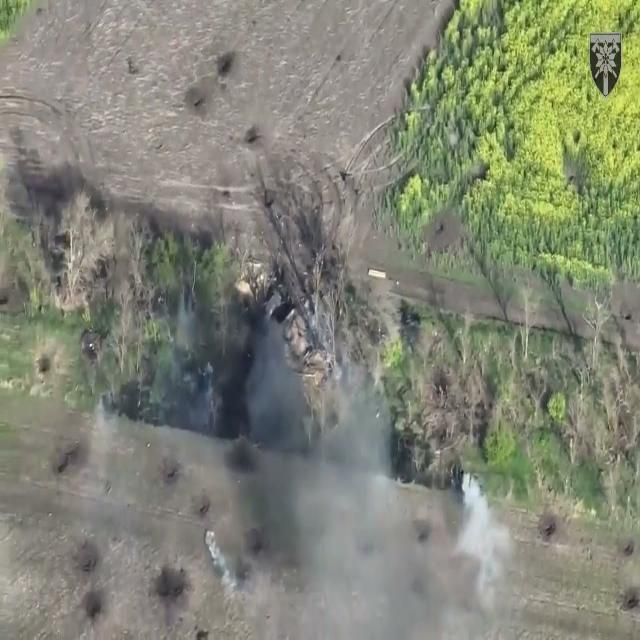tank: (261, 292, 324, 385)
